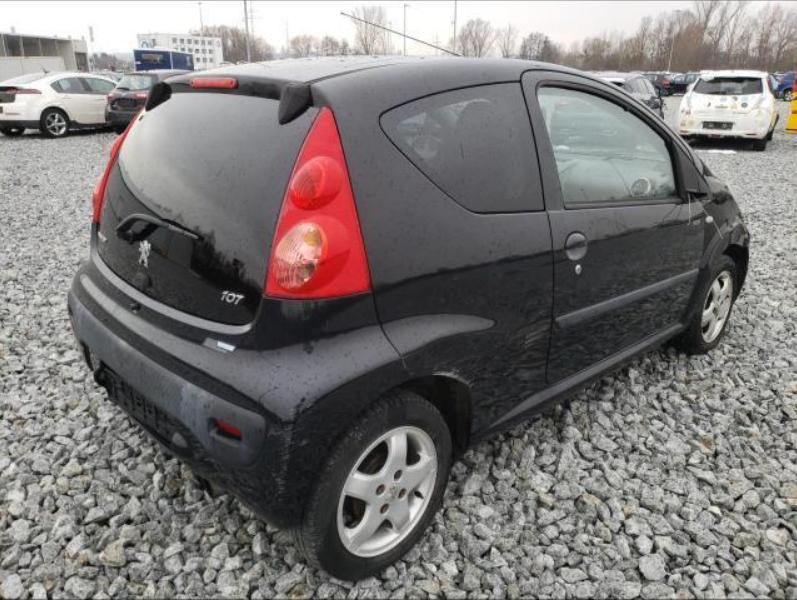Back-bumper: (66, 222, 414, 532)
Back-wheel: (289, 387, 453, 580)
Back-window: (380, 82, 544, 215)
Back-windshield: (97, 91, 320, 325)
Fender: (700, 177, 751, 296)
Front-door: (522, 70, 704, 386)
Front-wheel: (676, 254, 738, 353)
Front-window: (534, 79, 679, 204)
License-plate: (96, 360, 188, 451)
Quarter-panel: (361, 208, 554, 434)
Rocker-panel: (468, 320, 685, 446)
Roof: (145, 53, 620, 124)
Tail-light: (266, 105, 370, 299), (92, 107, 141, 232)
